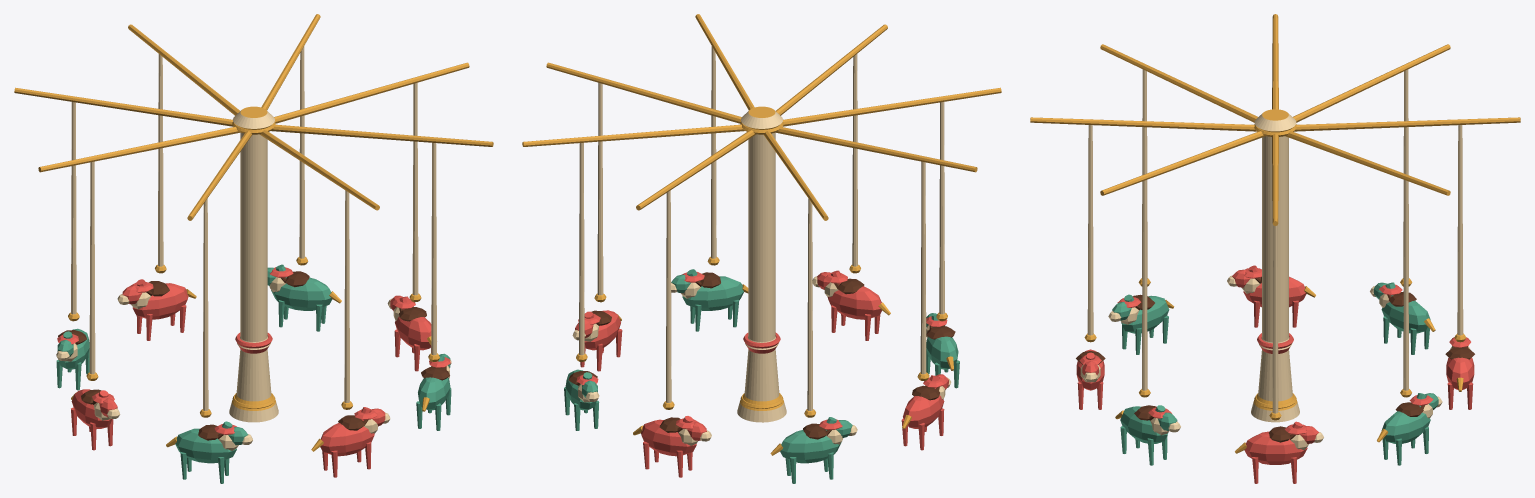
The model's file is ParkParkCarouselRotor.obj.
3 views of the same model, side by side, from view 1: azimuth 30°, elevation 25°; view 2: azimuth 150°, elevation 25°; view 3: azimuth 270°, elevation 25° (orthographic).
Parts seen in each view (by area): view 1: ParkParkCarouselRotor; view 2: ParkParkCarouselRotor; view 3: ParkParkCarouselRotor.
Part boxes in pixels (x1,y1,x2,y2): ParkParkCarouselRotor: (14, 14, 493, 483); ParkParkCarouselRotor: (522, 14, 1001, 483); ParkParkCarouselRotor: (1030, 14, 1520, 483).
Size of the model in its own units: 17.51 by 11.7 by 17.51.
